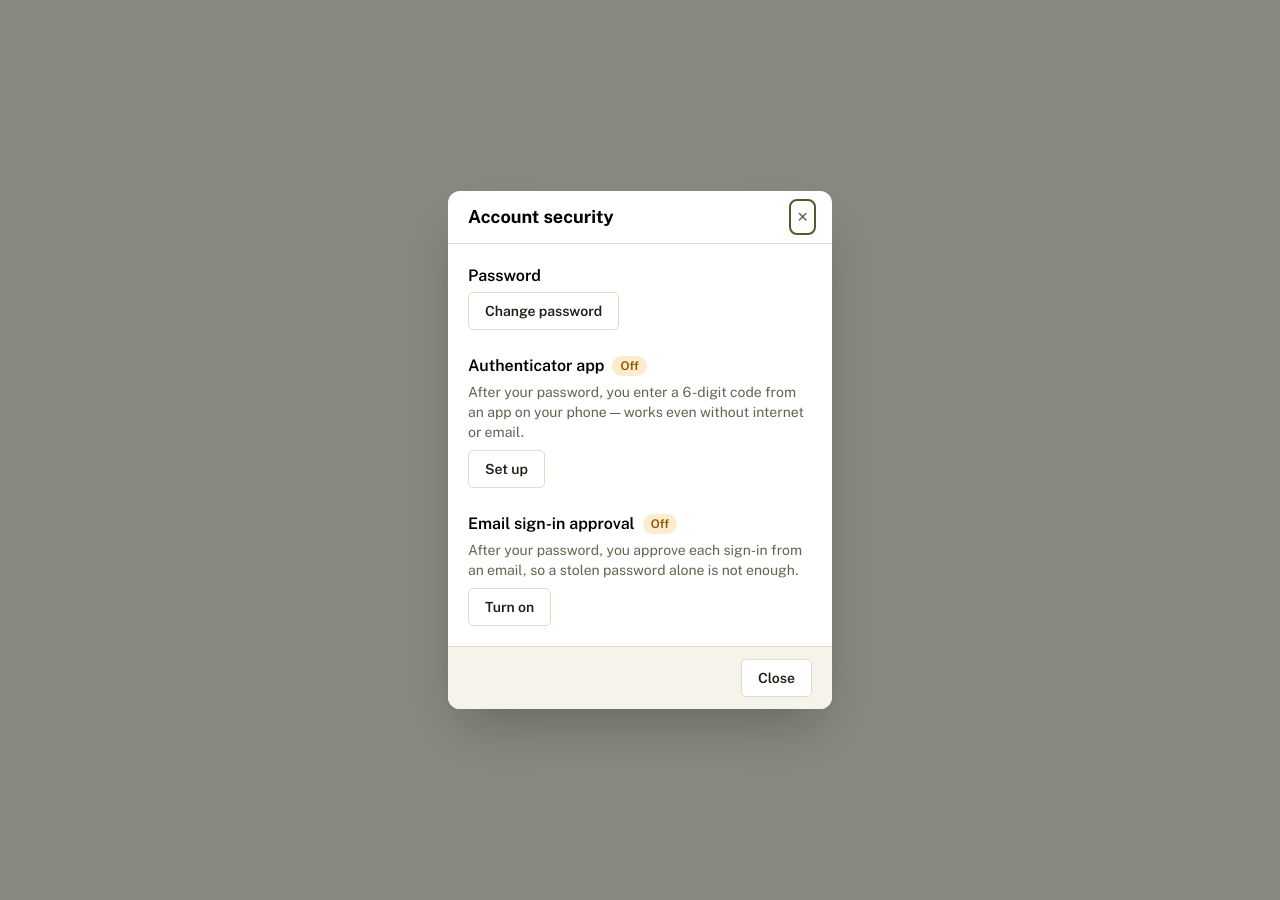
account security › turns approval on with the password and refreshes the session
Later steps or results of the test are not shown.
Expected: the text "Off" next to "Email sign-in approval" is shown, [651, 517, 669, 531]
What coordinates should you click on to do the following:
click the button "Turn on"
I would click on:
 (510, 607)
Its box is [468, 588, 551, 626].
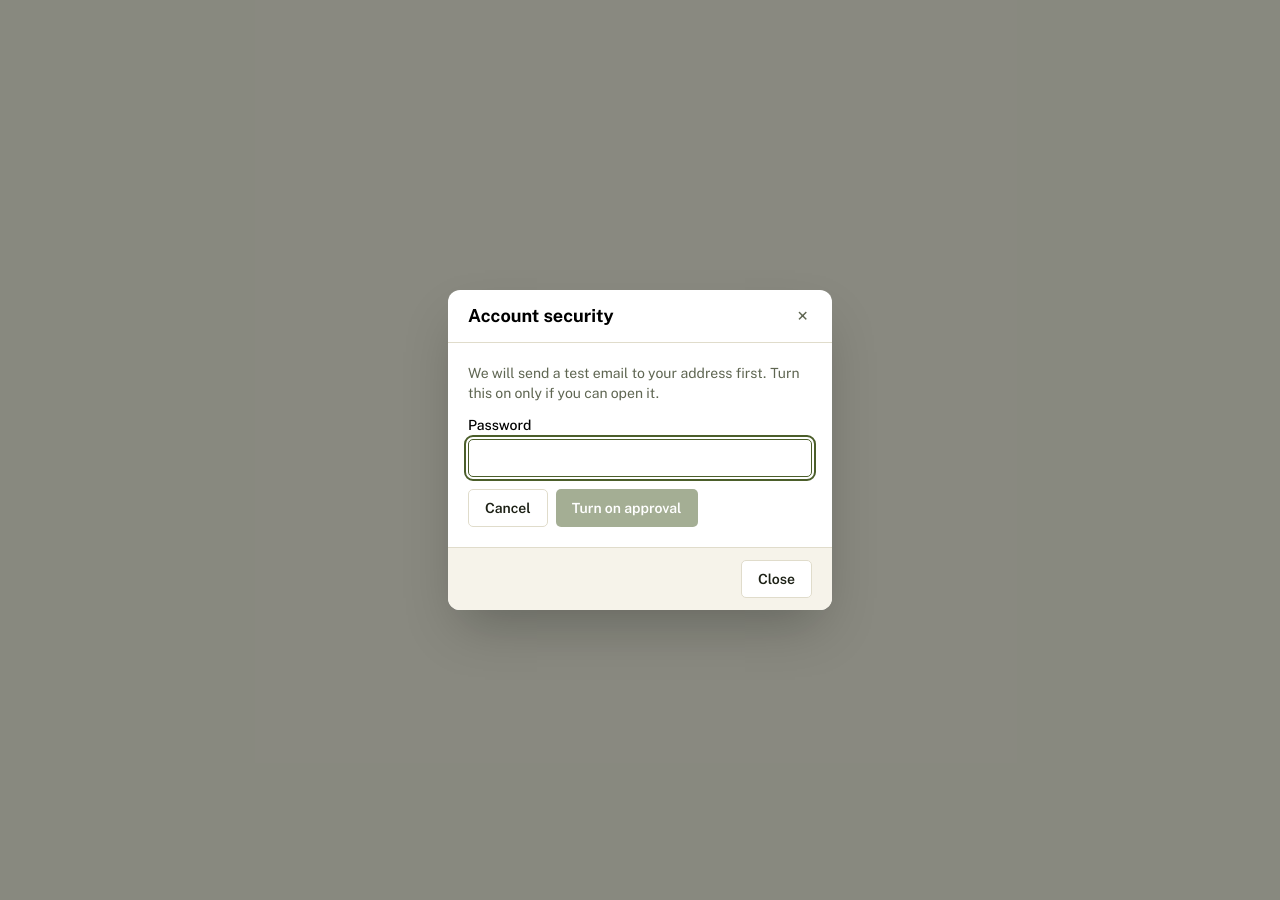
Expected: the button "Turn on approval" is disabled, [556, 489, 698, 527]
